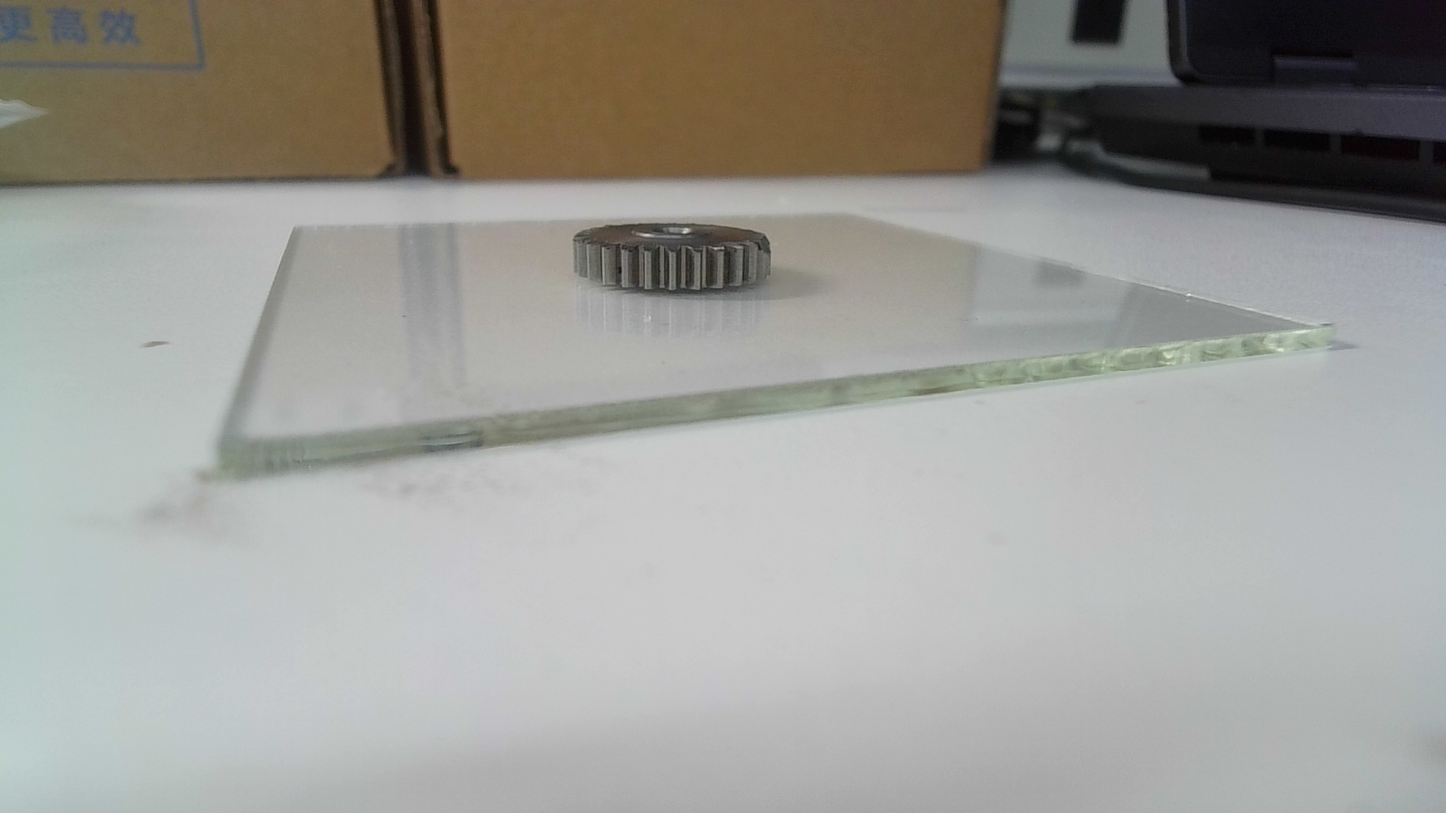gear: (570, 221, 776, 297)
